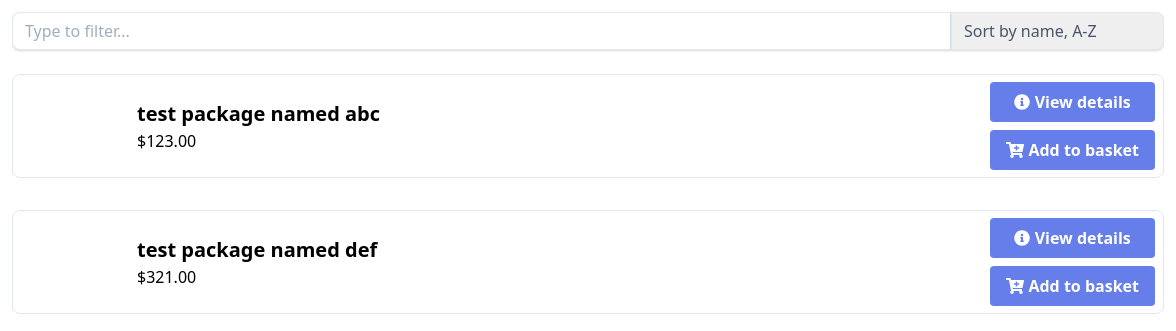
Test: Searches list › Can filter a list of packages
This screenshot has width=1176, height=331.
Type "def" into the field with placeholder "Type to filter..." at (482, 31), box [12,12,951,50]
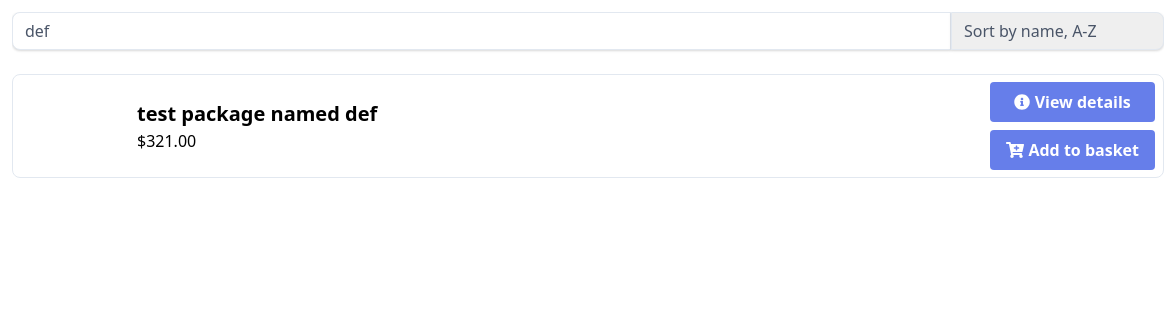
Check: the heading "test package named def" is shown, box [137,100,377,127]
Check: the heading "test package named abc" is gone
